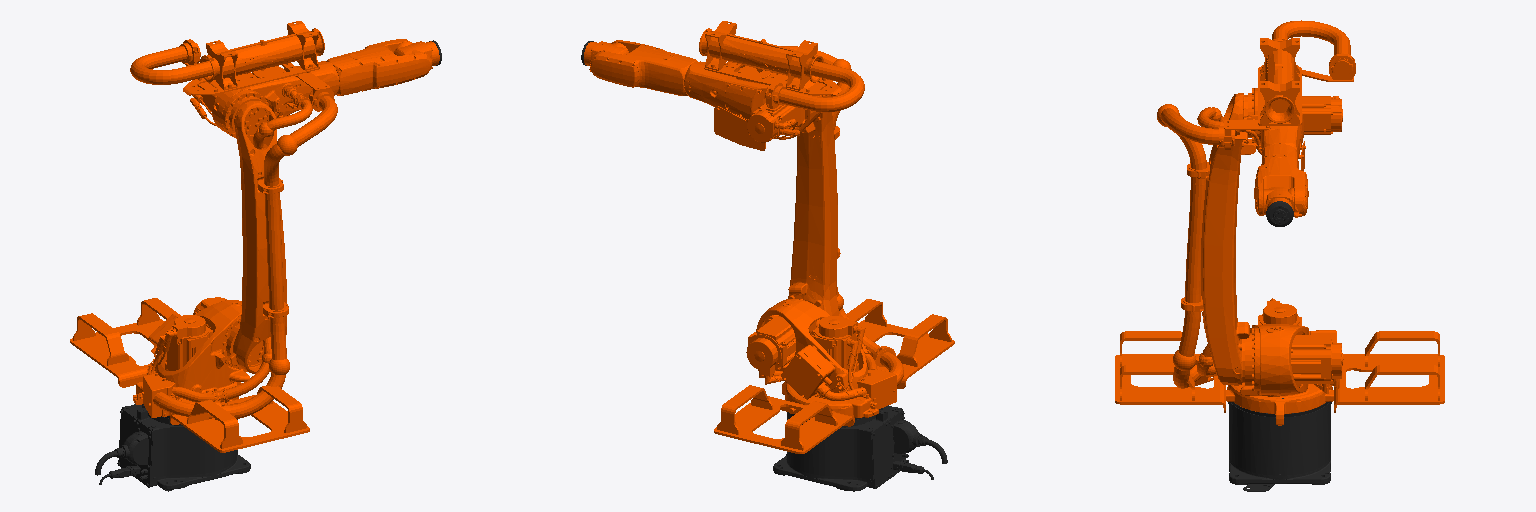
robot.urdf — kuka_kr_8_r1640_2:
<?xml version="1.0"?>
<robot name="kuka_kr_8_r1640_2">
  <material name="kuka_orange"><color rgba="1.00 0.40 0.00 1.0"/></material>
  <material name="kuka_dark_gray"><color rgba="0.20 0.20 0.20 1.0"/></material>

  <link name="base_link">
    <inertial>
      <origin xyz="-0.046671 0.004741 0.096486" rpy="0 0 0"/>
      <mass value="14.222"/>
      <inertia ixx="0.129284" ixy="-0.006323" ixz="0.002679" iyy="0.196805" iyz="-0.001454" izz="0.202470"/>
    </inertial>
    <visual>
      <origin xyz="0 0 0" rpy="0 0 0"/>
      <geometry><mesh filename="meshes/visual/base_link.stl"/></geometry>
      <material name="kuka_dark_gray"/>
    </visual>
    <collision>
      <origin xyz="0 0 0" rpy="0 0 0"/>
      <geometry><mesh filename="meshes/visual/base_link.stl"/></geometry>
    </collision>
  </link>

  <link name="link_1">
    <inertial>
      <origin xyz="0.027069 -0.010471 0.336801" rpy="0 0 0"/>
      <mass value="18.667"/>
      <inertia ixx="0.629017" ixy="-0.007297" ixz="-0.035771" iyy="0.222129" iyz="-0.009020" izz="0.712302"/>
    </inertial>
    <visual>
      <origin xyz="0 0 0" rpy="0 0 0"/>
      <geometry><mesh filename="meshes/visual/link_1.stl"/></geometry>
      <material name="kuka_orange"/>
    </visual>
    <collision>
      <origin xyz="0 0 0" rpy="0 0 0"/>
      <geometry><mesh filename="meshes/visual/link_1.stl"/></geometry>
    </collision>
  </link>

  <link name="link_2">
    <inertial>
      <origin xyz="-0.000435 -0.193769 0.374054" rpy="0 0 0"/>
      <mass value="23.111"/>
      <inertia ixx="1.305228" ixy="-0.000778" ixz="0.010631" iyy="1.268407" iyz="-0.000569" izz="0.100373"/>
    </inertial>
    <visual>
      <origin xyz="0 0 0" rpy="0 0 0"/>
      <geometry><mesh filename="meshes/visual/link_2.stl"/></geometry>
      <material name="kuka_orange"/>
    </visual>
    <collision>
      <origin xyz="0 0 0" rpy="0 0 0"/>
      <geometry><mesh filename="meshes/visual/link_2.stl"/></geometry>
    </collision>
  </link>

  <link name="link_3">
    <inertial>
      <origin xyz="0.070454 -0.010833 0.069749" rpy="0 0 0"/>
      <mass value="17.778"/>
      <inertia ixx="0.227777" ixy="0.051618" ixz="0.020476" iyy="0.308354" iyz="-0.016861" izz="0.370695"/>
    </inertial>
    <visual>
      <origin xyz="0 0 0" rpy="0 0 0"/>
      <geometry><mesh filename="meshes/visual/link_3.stl"/></geometry>
      <material name="kuka_orange"/>
    </visual>
    <collision>
      <origin xyz="0 0 0" rpy="0 0 0"/>
      <geometry><mesh filename="meshes/visual/link_3.stl"/></geometry>
    </collision>
  </link>

  <link name="link_4">
    <inertial>
      <origin xyz="-0.131676 0.002276 -0.000621" rpy="0 0 0"/>
      <mass value="4.000"/>
      <inertia ixx="0.013656" ixy="-0.000811" ixz="0.000125" iyy="0.032857" iyz="0.000013" izz="0.036008"/>
    </inertial>
    <visual>
      <origin xyz="0 0 0" rpy="0 0 0"/>
      <geometry><mesh filename="meshes/visual/link_4.stl"/></geometry>
      <material name="kuka_orange"/>
    </visual>
    <collision>
      <origin xyz="0 0 0" rpy="0 0 0"/>
      <geometry><mesh filename="meshes/visual/link_4.stl"/></geometry>
    </collision>
  </link>

  <link name="link_5">
    <inertial>
      <origin xyz="0.021376 -0.000886 -0.000004" rpy="0 0 0"/>
      <mass value="3.556"/>
      <inertia ixx="0.007304" ixy="-0.000031" ixz="0.000000" iyy="0.009248" iyz="0.000001" izz="0.009663"/>
    </inertial>
    <visual>
      <origin xyz="0 0 0" rpy="0 0 0"/>
      <geometry><mesh filename="meshes/visual/link_5.stl"/></geometry>
      <material name="kuka_orange"/>
    </visual>
    <collision>
      <origin xyz="0 0 0" rpy="0 0 0"/>
      <geometry><mesh filename="meshes/visual/link_5.stl"/></geometry>
    </collision>
  </link>

  <link name="link_6">
    <inertial>
      <origin xyz="-0.009283 0.000000 -0.000031" rpy="0 0 0"/>
      <mass value="2.222"/>
      <inertia ixx="0.003436" ixy="0.000000" ixz="-0.000000" iyy="0.002850" iyz="0.000002" izz="0.002861"/>
    </inertial>
    <visual>
      <origin xyz="0 0 0" rpy="0 0 0"/>
      <geometry><mesh filename="meshes/visual/link_6.stl"/></geometry>
      <material name="kuka_dark_gray"/>
    </visual>
    <collision>
      <origin xyz="0 0 0" rpy="0 0 0"/>
      <geometry><mesh filename="meshes/visual/link_6.stl"/></geometry>
    </collision>
  </link>

  <link name="tool0"/>

  <joint name="joint_a1" type="revolute">
    <parent link="base_link"/>
    <child link="link_1"/>
    <origin xyz="0.000000 0.000000 0.000000" rpy="0 0 0"/>
    <axis xyz="0.0 0.0 -1.0"/>
    <limit lower="-2.967060" upper="2.967060" effort="577.8" velocity="3.000000"/>
    <dynamics damping="5.0" friction="1.0"/>
  </joint>

  <joint name="joint_a2" type="revolute">
    <parent link="link_1"/>
    <child link="link_2"/>
    <origin xyz="0.170000 0.000000 0.425000" rpy="0 0 0"/>
    <axis xyz="0.0 1.0 0.0"/>
    <limit lower="-1.658063" upper="2.705260" effort="666.7" velocity="3.000000"/>
    <dynamics damping="5.0" friction="1.0"/>
  </joint>

  <joint name="joint_a3" type="revolute">
    <parent link="link_2"/>
    <child link="link_3"/>
    <origin xyz="0.000000 0.000000 0.810000" rpy="0 0 0"/>
    <axis xyz="0.0 1.0 0.0"/>
    <limit lower="-3.961897" upper="1.274090" effort="444.4" velocity="3.000000"/>
    <dynamics damping="5.0" friction="1.0"/>
  </joint>

  <joint name="joint_a4" type="revolute">
    <parent link="link_3"/>
    <child link="link_4"/>
    <origin xyz="0.660000 0.000000 0.020000" rpy="0 0 0"/>
    <axis xyz="-1.0 0.0 -0.0"/>
    <limit lower="-3.228859" upper="3.228859" effort="177.8" velocity="3.000000"/>
    <dynamics damping="5.0" friction="1.0"/>
  </joint>

  <joint name="joint_a5" type="revolute">
    <parent link="link_4"/>
    <child link="link_5"/>
    <origin xyz="0.000000 0.000000 0.000000" rpy="0 0 0"/>
    <axis xyz="0.0 1.0 0.0"/>
    <limit lower="-2.094395" upper="2.094395" effort="124.4" velocity="3.000000"/>
    <dynamics damping="5.0" friction="1.0"/>
  </joint>

  <joint name="joint_a6" type="revolute">
    <parent link="link_5"/>
    <child link="link_6"/>
    <origin xyz="0.100000 0.000000 0.000000" rpy="0 0 0"/>
    <axis xyz="-1.0 0.0 -0.0"/>
    <limit lower="-6.108652" upper="6.108652" effort="75.6" velocity="3.000000"/>
    <dynamics damping="5.0" friction="1.0"/>
  </joint>

  <joint name="link_6-tool0" type="fixed">
    <parent link="link_6"/>
    <child link="tool0"/>
    <origin xyz="0.000000 0.000000 0.000000" rpy="0 1.57079632679 0"/>
  </joint>
</robot>

--- What the picture shows (computed from the rendered views, not written in the file) ---
The picture shows the robot from 3 angles, left to right: view 1: azimuth 30°, elevation 25°; view 2: azimuth 150°, elevation 25°; view 3: azimuth 270°, elevation 25°; orthographic projection.
Model kuka_kr_8_r1640_2 with 8 links and 7 joints (6 revolute, 1 fixed), rooted at base_link, posed every joint at zero.
Links seen in each view (by area): view 1: link_1, link_3, link_2, base_link, link_4, link_5; view 2: link_1, link_3, link_2, base_link, link_4; view 3: link_1, link_2, link_3, base_link, link_4, link_6.
Boxes of the visible links, bbox=[...] form: link_1: bbox=[70, 297, 309, 452]; link_3: bbox=[130, 21, 339, 146]; link_2: bbox=[225, 101, 297, 374]; base_link: bbox=[95, 404, 250, 491]; link_4: bbox=[326, 39, 431, 95]; link_5: bbox=[394, 41, 439, 68]; link_1: bbox=[714, 298, 954, 453]; link_3: bbox=[684, 21, 864, 150]; link_2: bbox=[788, 59, 851, 315]; base_link: bbox=[773, 405, 947, 491]; link_4: bbox=[589, 40, 697, 95]; link_1: bbox=[1115, 298, 1444, 425]; link_2: bbox=[1157, 93, 1255, 385]; link_3: bbox=[1161, 20, 1355, 170]; base_link: bbox=[1228, 398, 1331, 491]; link_4: bbox=[1254, 144, 1308, 217]; link_6: bbox=[1266, 201, 1293, 226].
Size in the robot's own frame: 1.32 by 0.994 by 1.48 metres.
Meshes: 7 distinct files referenced, 7 mesh visuals loaded (7 binary STL).
